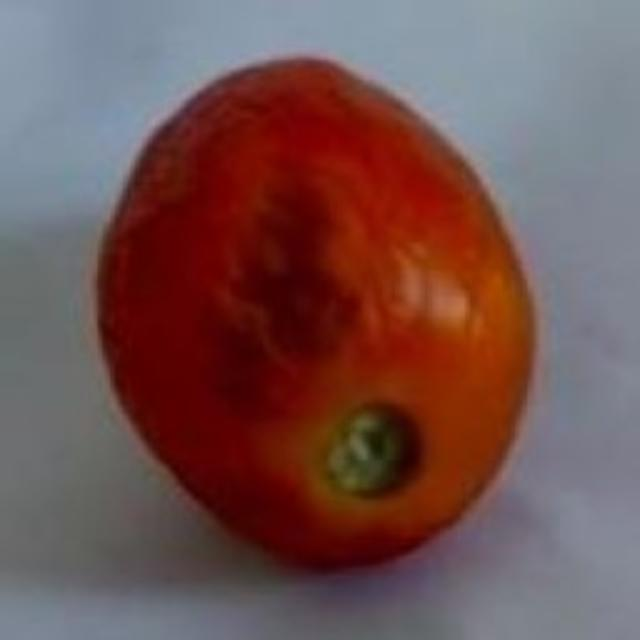defect: (93, 52, 542, 579)
